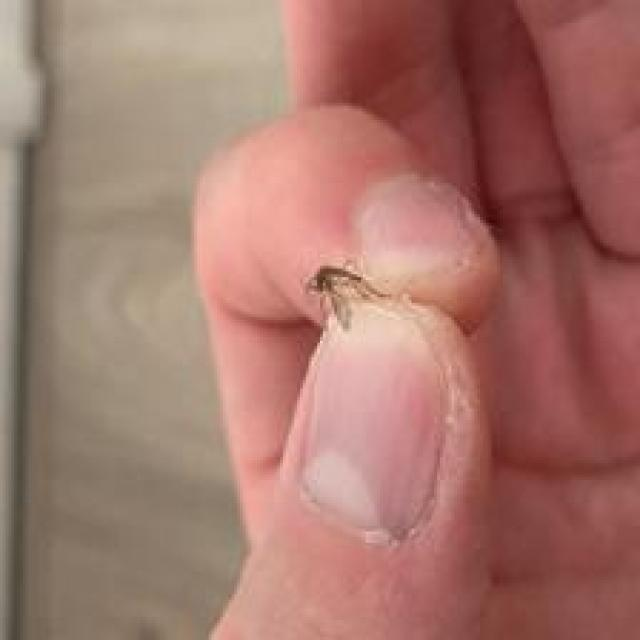Culex: (303, 258, 414, 333)
